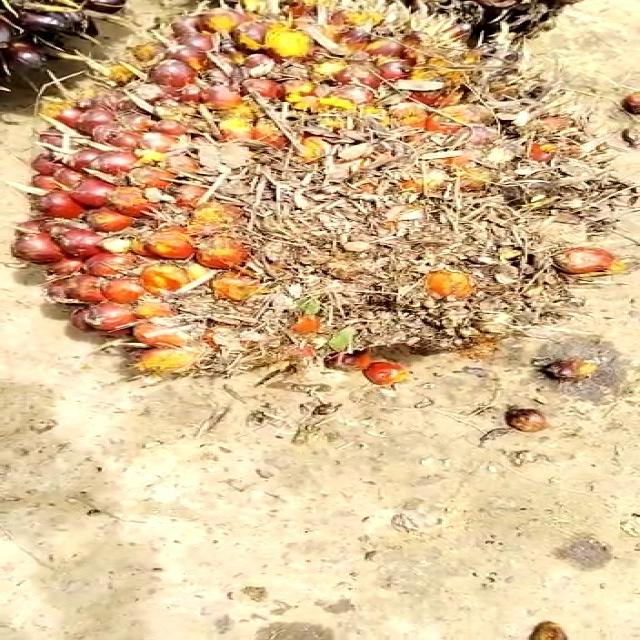palm oil: (19, 0, 634, 398)
